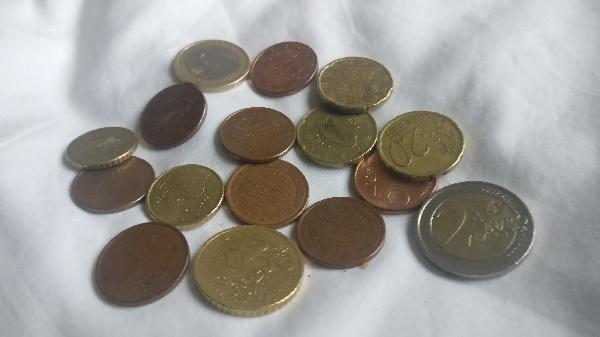Fifty Cent: (194, 225, 301, 318)
Five Cent: (87, 220, 196, 306), (297, 193, 389, 272), (220, 159, 311, 221), (69, 159, 155, 213), (140, 84, 210, 148), (353, 152, 437, 205), (220, 105, 293, 162), (246, 42, 323, 96)
One Euro: (174, 38, 249, 89)
Ten Cent: (150, 169, 230, 229), (60, 126, 138, 171)
Twenty Cent: (380, 108, 465, 179), (296, 106, 379, 164), (322, 58, 394, 111)
Two Euro: (416, 183, 534, 279)
